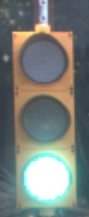Green: (3, 25, 83, 211)
